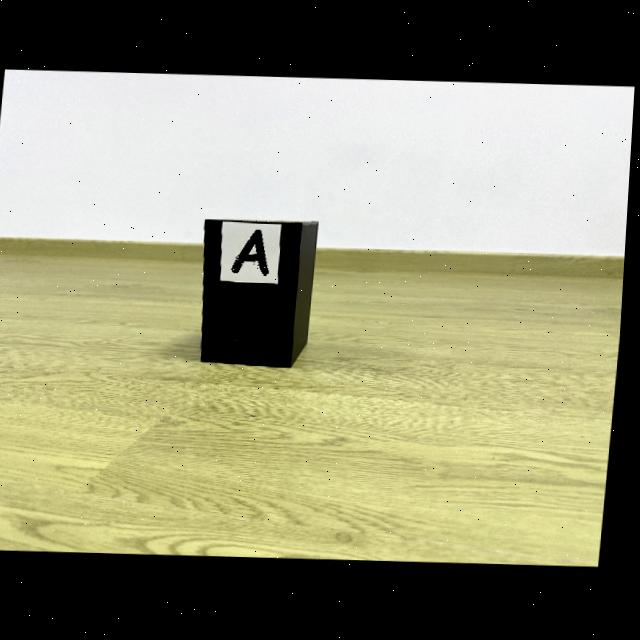A: (234, 230, 271, 275)
